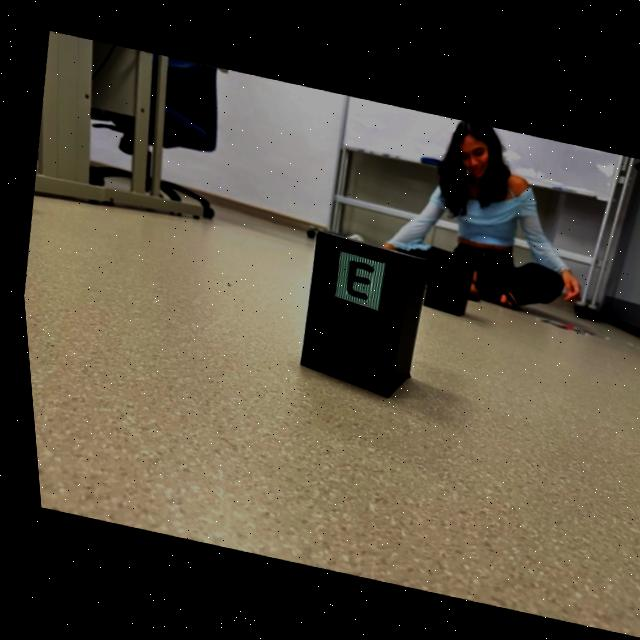E: (343, 258, 368, 296)
